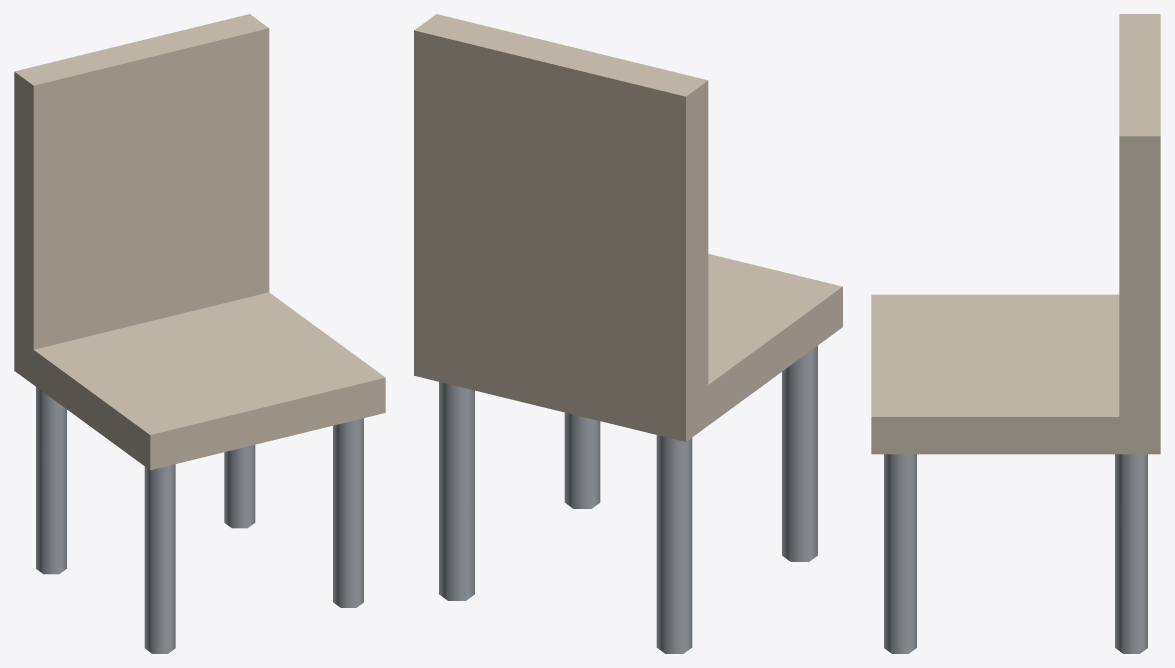
The model's file is chair.glb.
The picture shows the model from 3 angles, left to right: view 1: azimuth 30°, elevation 25°; view 2: azimuth 150°, elevation 25°; view 3: azimuth 270°, elevation 25°; orthographic projection. The views are drawn at different scales.
Visible parts, largest first — view 1: Back, Seat, Legs; view 2: Back, Seat, Legs; view 3: Seat, Back, Legs.
Boxes of the visible parts, box(x1,y1,x2,y2) form: Back: box(14, 14, 269, 366); Seat: box(14, 292, 385, 470); Legs: box(36, 387, 363, 653); Back: box(414, 14, 708, 421); Seat: box(414, 254, 842, 441); Legs: box(439, 345, 817, 653); Seat: box(871, 294, 1160, 454); Back: box(1119, 14, 1160, 435); Legs: box(884, 454, 1147, 653).
Bounding box in the file's own units: 0.35 × 0.7 × 0.35.
